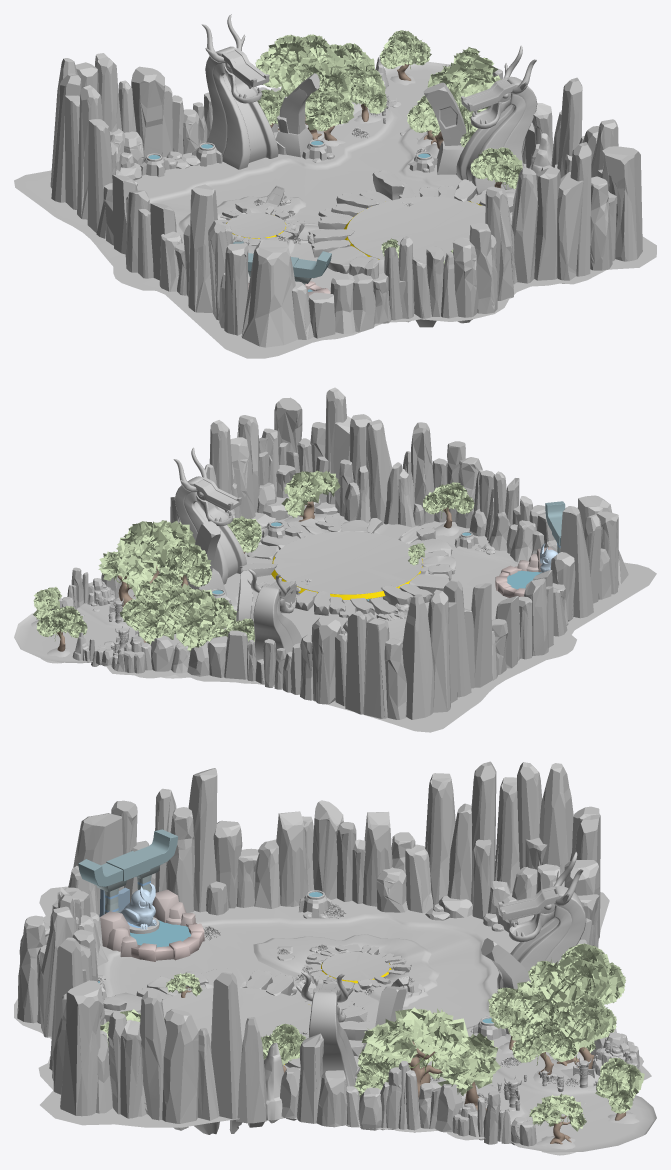
The model's file is Arena_01.gltf.
The picture shows the model from 3 angles, top to bottom: view 1: azimuth 30°, elevation 25°; view 2: azimuth 150°, elevation 25°; view 3: azimuth 270°, elevation 25°; orthographic projection. The views are drawn at different scales.
Visible parts, largest first — view 1: Arena_Terrain_01, Arena_Tree_Leaf_02 (×8), Cube_026 (×2), Arena_01_P_Small_arena_01 (×2), Arenas_Mountain_2_01 (×4), Arenas_Mountain_44_01 (×3), Arenas_Mountain_5_01 (×3), Arenas_Mountain_15_01 (×3), Arenas_Mountain_12_01 (×2), Arenas_Mountain_16_01 (×2), Arenas_Mountain_8_01, Arenas_Mountain_4_01 (+33 smaller); view 2: Arena_Terrain_01, Arena_Tree_Leaf_02 (×6), Arena_01_P_Small_arena_01, Arena_Tree_Leaf (×5), Arenas_Mountain_2_01 (×4), Cube_026 (×2), Arenas_Mountain_4_01 (×2), Arenas_Mountain_1_01, Arenas_Mountain_13_01 (×2), Arenas_Mountain_16_01 (×2), Arenas_Mountain_8_01 (×2), Arenas_Mountain_5_01 (×2) (+30 smaller); view 3: Arena_Terrain_01, Arena_Tree_Leaf_02 (×6), Arenas_Mountain_2_01 (×4), Arena_Tree_Leaf (×4), Arenas_Mountain_5_01 (×4), Arenas_Mountain_44_01 (×4), Arena_01_P_Small_arena_01 (×2), Cube_026 (×2), Arenas_Mountain_1_01 (×2), Arenas_Mountain_8_01 (×2), Arenas_Mountain_12_01, Arenas_Mountain_15_01 (×2) (+37 smaller).
Boxes of the visible parts, left/top/right/bottom form: Arena_Terrain_01: left=14, top=61, right=656, bottom=358; Arena_Tree_Leaf_02 (×8): left=255, top=30, right=522, bottom=188; Cube_026 (×2): left=205, top=46, right=537, bottom=194; Arena_01_P_Small_arena_01 (×2): left=226, top=196, right=485, bottom=263; Arenas_Mountain_2_01 (×4): left=51, top=73, right=591, bottom=276; Arenas_Mountain_44_01 (×3): left=159, top=231, right=313, bottom=347; Arenas_Mountain_5_01 (×3): left=64, top=95, right=153, bottom=278; Arenas_Mountain_15_01 (×3): left=112, top=172, right=583, bottom=283; Arenas_Mountain_12_01 (×2): left=162, top=85, right=642, bottom=261; Arenas_Mountain_16_01 (×2): left=511, top=119, right=618, bottom=283; Arenas_Mountain_8_01: left=188, top=184, right=217, bottom=312; Arenas_Mountain_4_01: left=534, top=167, right=560, bottom=280; Arena_Terrain_01: left=14, top=512, right=656, bottom=732; Arena_Tree_Leaf_02 (×6): left=36, top=482, right=474, bottom=648; Arena_01_P_Small_arena_01: left=271, top=531, right=422, bottom=599; Arena_Tree_Leaf (×5): left=33, top=470, right=340, bottom=619; Arenas_Mountain_2_01 (×4): left=209, top=387, right=471, bottom=712; Cube_026 (×2): left=175, top=476, right=301, bottom=666; Arenas_Mountain_4_01 (×2): left=349, top=414, right=389, bottom=718; Arenas_Mountain_1_01: left=402, top=594, right=434, bottom=719; Arenas_Mountain_13_01 (×2): left=311, top=552, right=575, bottom=704; Arenas_Mountain_16_01 (×2): left=237, top=415, right=392, bottom=523; Arenas_Mountain_8_01 (×2): left=464, top=506, right=593, bottom=688; Arenas_Mountain_5_01 (×2): left=448, top=583, right=492, bottom=703; Arena_Terrain_01: left=14, top=886, right=656, bottom=1152; Arena_Tree_Leaf_02 (×6): left=261, top=943, right=644, bottom=1113; Arenas_Mountain_2_01 (×4): left=52, top=761, right=542, bottom=1119; Arena_Tree_Leaf (×4): left=354, top=1007, right=586, bottom=1131; Arenas_Mountain_5_01 (×4): left=302, top=773, right=519, bottom=1132; Arenas_Mountain_44_01 (×4): left=68, top=813, right=433, bottom=916; Arena_01_P_Small_arena_01 (×2): left=162, top=952, right=391, bottom=1064; Cube_026 (×2): left=309, top=886, right=586, bottom=1086; Arenas_Mountain_1_01 (×2): left=236, top=763, right=573, bottom=1123; Arenas_Mountain_8_01 (×2): left=188, top=768, right=472, bottom=912; Arenas_Mountain_12_01: left=60, top=980, right=103, bottom=1116; Arenas_Mountain_15_01 (×2): left=276, top=811, right=392, bottom=906.
Size of the model in its own units: 70.91 by 26.39 by 70.71.
